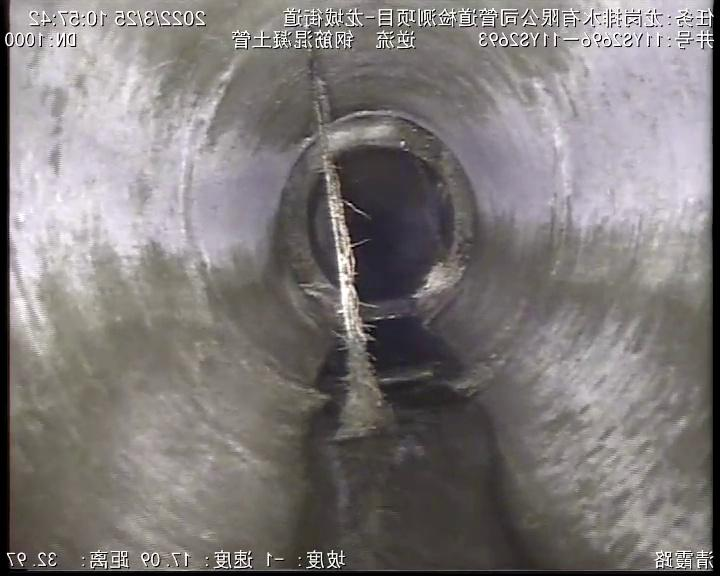SG: (313, 70, 392, 442)
